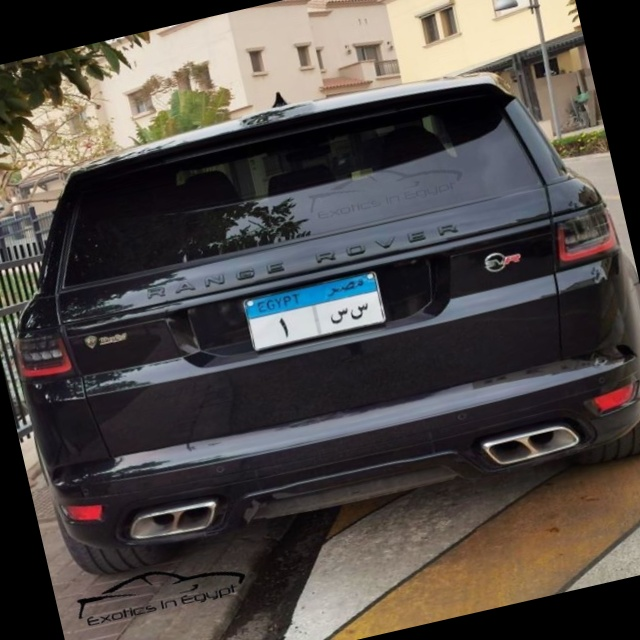License Plate: (237, 265, 391, 356)
